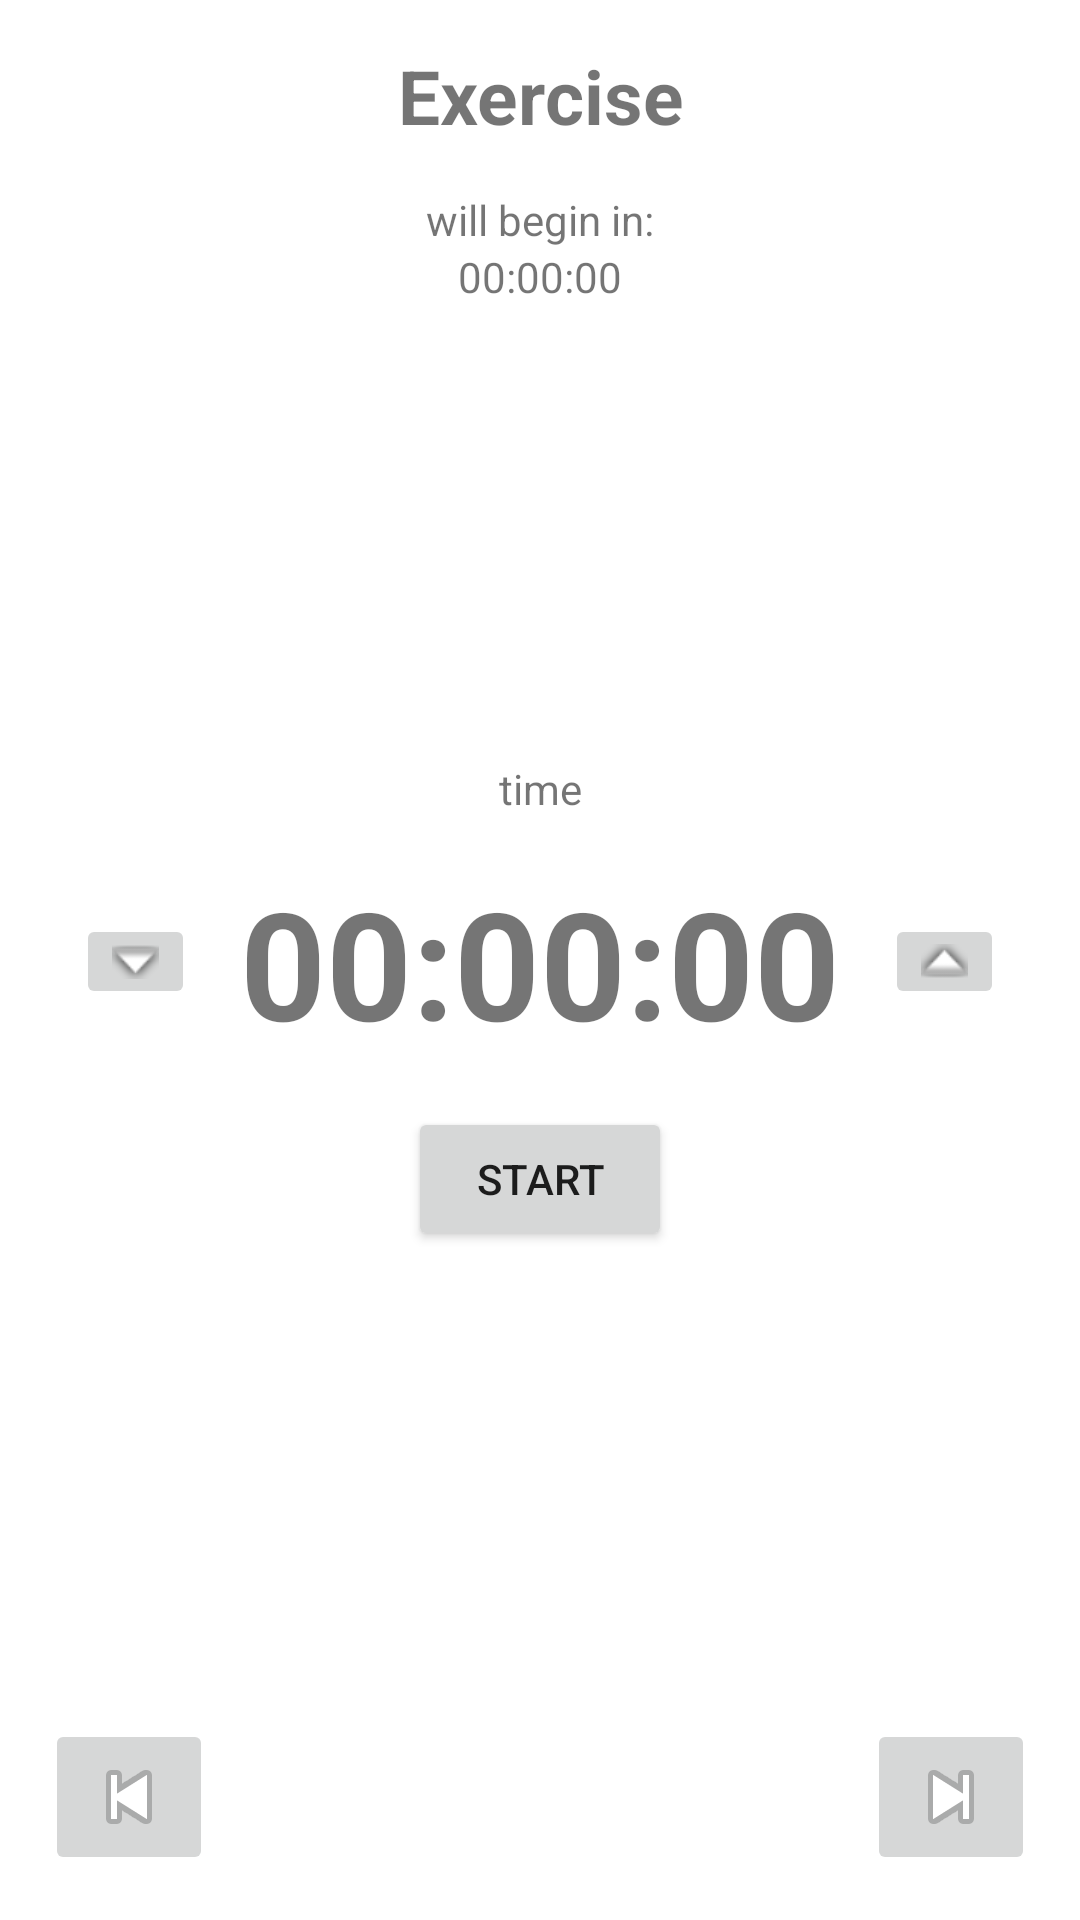

Icon bounding boxes for this 1080 × 1920 phone screenshot, format [x1, y1, x2, y2]:
arrow down float: [88, 932, 183, 991]
arrow up float: [897, 932, 992, 991]
next: [879, 1737, 1023, 1857]
previous: [57, 1737, 201, 1857]
